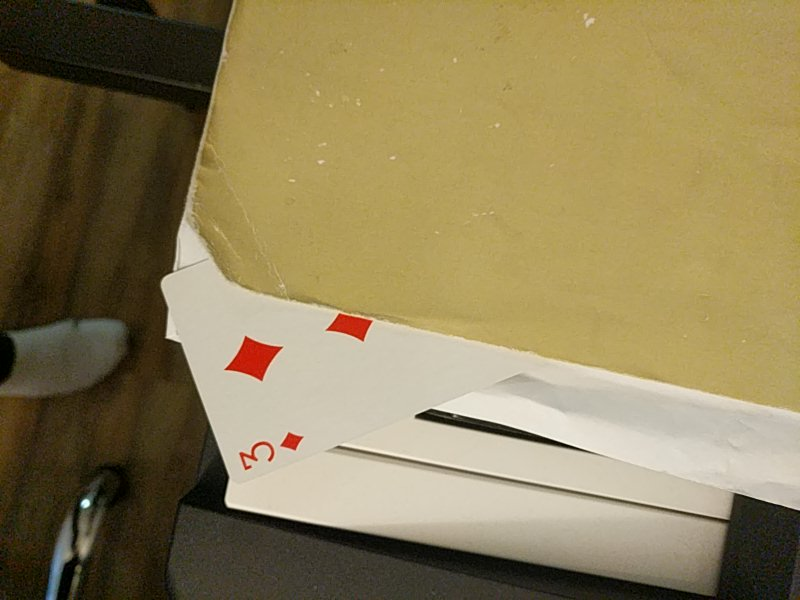Diamonds: (162, 241, 533, 485)
